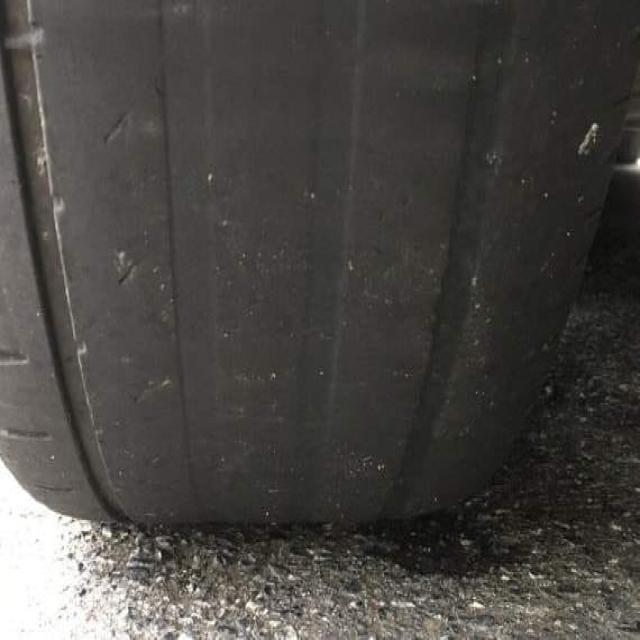Flat spots: (0, 0, 513, 450)
